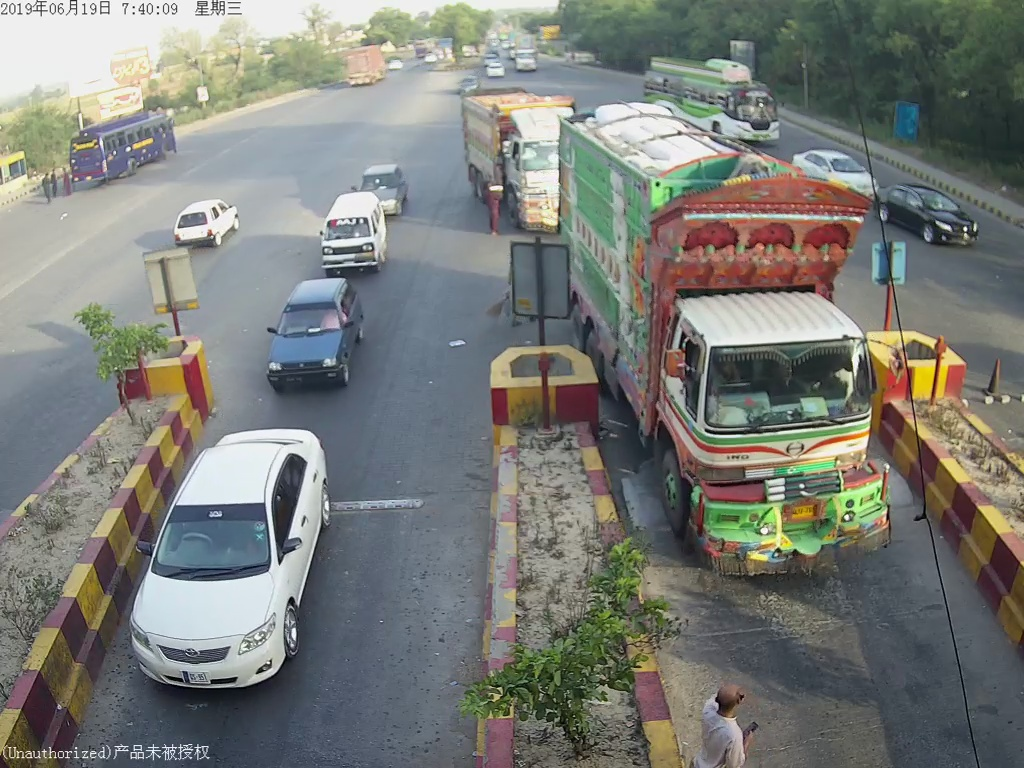Cat-1: (126, 423, 353, 720), (261, 283, 370, 386), (316, 200, 385, 276)
Cat-4: (560, 102, 919, 581)
